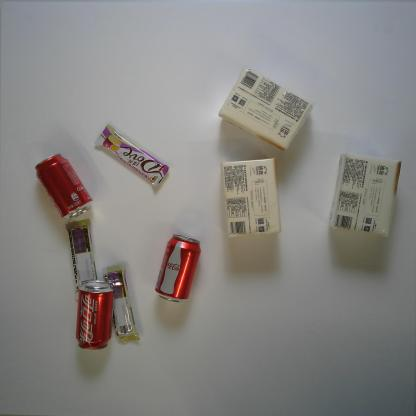Chocolate: (94, 124, 170, 187), (102, 263, 140, 344), (65, 218, 98, 300)
Drink: (34, 153, 94, 221), (154, 234, 201, 302), (75, 280, 115, 350)
Tissue: (217, 66, 313, 152), (328, 153, 402, 238), (220, 156, 282, 238)
